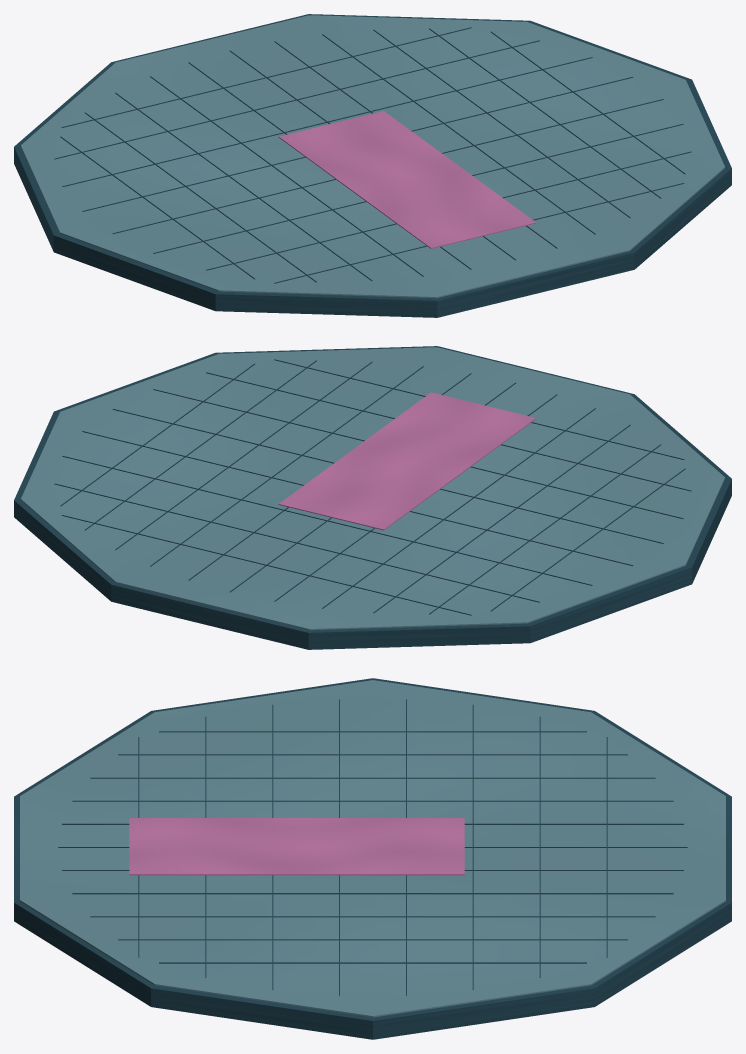
Rendered from atlas100-s061-a07.glb.
3 views of the same model, one above another, from view 1: azimuth 30°, elevation 25°; view 2: azimuth 150°, elevation 25°; view 3: azimuth 270°, elevation 25° (orthographic). The views are drawn at different scales.
Parts seen in each view (by area): view 1: atlas100-s061-a07:part-001, atlas100-s061-a07:part-000, atlas100-s061-a07:part-021, atlas100-s061-a07:part-015, atlas100-s061-a07:part-014, atlas100-s061-a07:part-017, atlas100-s061-a07:part-016, atlas100-s061-a07:part-018, atlas100-s061-a07:part-013, atlas100-s061-a07:part-019, atlas100-s061-a07:part-009, atlas100-s061-a07:part-005 (+3 smaller); view 2: atlas100-s061-a07:part-001, atlas100-s061-a07:part-000, atlas100-s061-a07:part-021, atlas100-s061-a07:part-015, atlas100-s061-a07:part-014, atlas100-s061-a07:part-017, atlas100-s061-a07:part-016, atlas100-s061-a07:part-018, atlas100-s061-a07:part-013, atlas100-s061-a07:part-019, atlas100-s061-a07:part-009, atlas100-s061-a07:part-005 (+3 smaller); view 3: atlas100-s061-a07:part-001, atlas100-s061-a07:part-000, atlas100-s061-a07:part-021, atlas100-s061-a07:part-005, atlas100-s061-a07:part-009, atlas100-s061-a07:part-004, atlas100-s061-a07:part-010, atlas100-s061-a07:part-011, atlas100-s061-a07:part-003, atlas100-s061-a07:part-012, atlas100-s061-a07:part-002.
Part boxes in pixels (box(x1,y1,x2,y2)): atlas100-s061-a07:part-001: box(21, 15, 724, 298); atlas100-s061-a07:part-000: box(14, 14, 731, 317); atlas100-s061-a07:part-021: box(278, 111, 536, 248); atlas100-s061-a07:part-015: box(62, 57, 592, 186); atlas100-s061-a07:part-014: box(54, 40, 539, 159); atlas100-s061-a07:part-017: box(112, 99, 663, 233); atlas100-s061-a07:part-016: box(82, 77, 633, 211); atlas100-s061-a07:part-018: box(153, 124, 683, 253); atlas100-s061-a07:part-013: box(61, 27, 471, 127); atlas100-s061-a07:part-019: box(206, 151, 691, 270); atlas100-s061-a07:part-009: box(322, 34, 595, 234); atlas100-s061-a07:part-005: box(150, 76, 423, 276); atlas100-s061-a07:part-001: box(21, 347, 724, 630); atlas100-s061-a07:part-000: box(14, 346, 731, 649); atlas100-s061-a07:part-021: box(278, 392, 536, 530); atlas100-s061-a07:part-015: box(62, 456, 592, 585); atlas100-s061-a07:part-014: box(54, 483, 539, 602); atlas100-s061-a07:part-017: box(112, 409, 663, 543); atlas100-s061-a07:part-016: box(82, 431, 633, 565); atlas100-s061-a07:part-018: box(153, 389, 683, 518); atlas100-s061-a07:part-013: box(61, 515, 471, 615); atlas100-s061-a07:part-019: box(206, 372, 691, 491); atlas100-s061-a07:part-009: box(150, 366, 423, 566); atlas100-s061-a07:part-005: box(322, 408, 595, 608); atlas100-s061-a07:part-001: box(20, 680, 725, 1017); atlas100-s061-a07:part-000: box(14, 678, 731, 1039); atlas100-s061-a07:part-021: box(129, 818, 464, 875); atlas100-s061-a07:part-005: box(72, 800, 673, 801); atlas100-s061-a07:part-009: box(72, 893, 673, 894); atlas100-s061-a07:part-004: box(90, 777, 655, 778); atlas100-s061-a07:part-010: box(90, 916, 655, 917); atlas100-s061-a07:part-011: box(118, 939, 627, 940); atlas100-s061-a07:part-003: box(118, 754, 627, 755); atlas100-s061-a07:part-012: box(159, 962, 586, 963); atlas100-s061-a07:part-002: box(159, 731, 586, 732).
Size of the model in its own units: 13.35 by 0.404 by 11.81.
3 materials, 3 textured.
